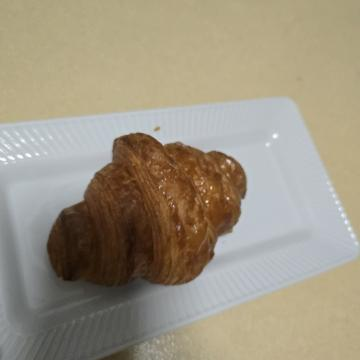croissant: (121, 104, 294, 324)
